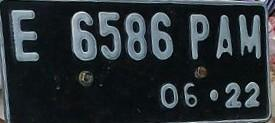clone-license-plate: (0, 0, 272, 121)
